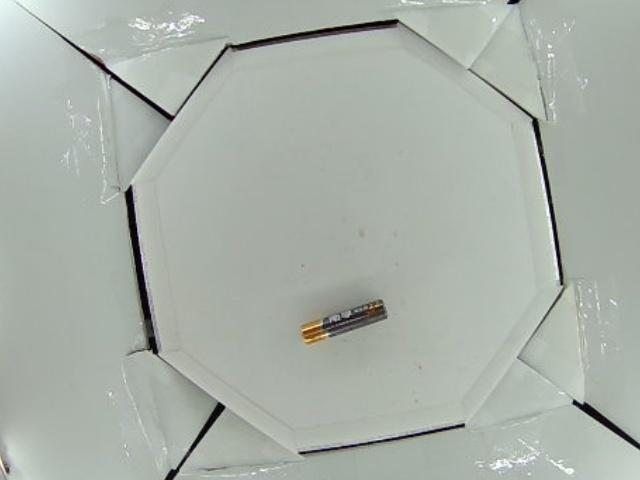Battery: (298, 298, 392, 347)
